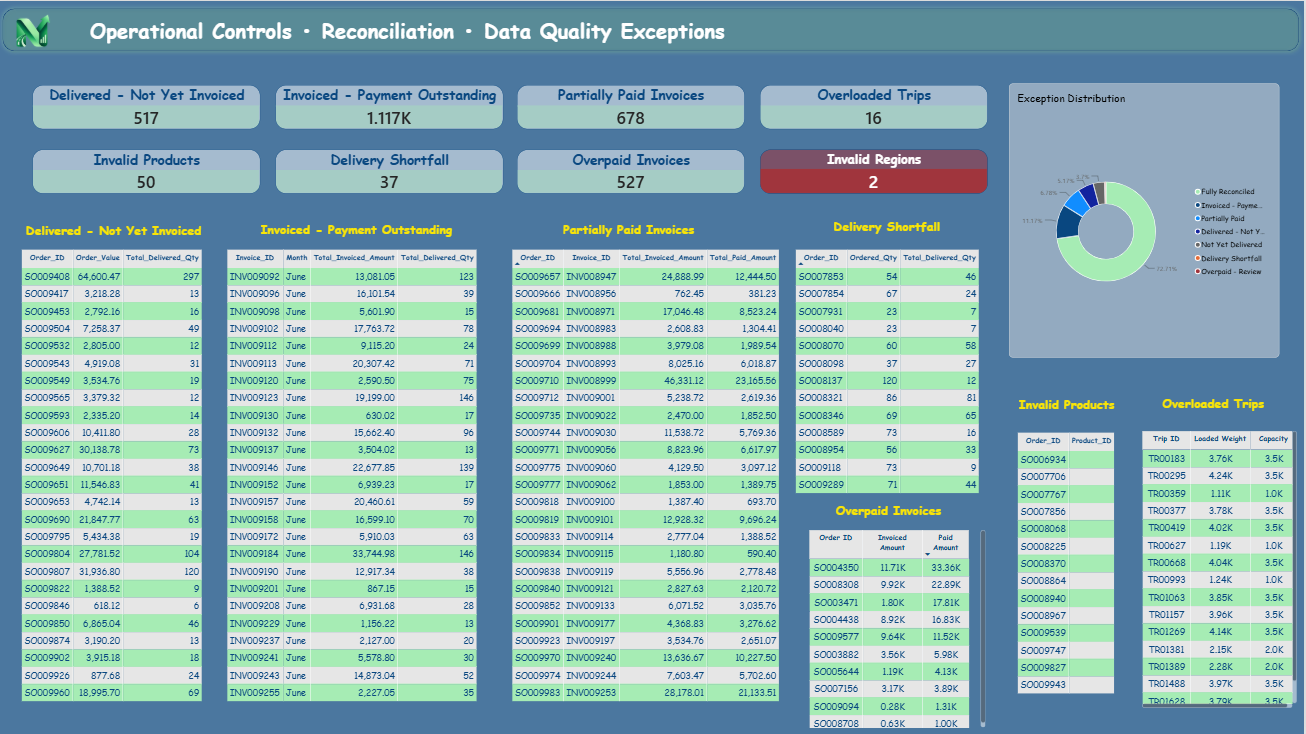

What the dashboard file says about the page in this screenshot:
{"tool":"powerbi","page":{"name":"Exceptions Page","canvas":[2560,1440],"ordinal":1},"visuals":[{"type":"tableEx","fields":{"Values":["V_Order_Reconciliation.Order_ID","Sum(V_Order_Reconciliation.Total_Invoiced_Amount)","Sum(V_Order_Reconciliation.Total_Paid_Amount)"]},"box":[1573.3,1023.3,363.3,416.7],"z":0},{"type":"tableEx","fields":{"Values":["Fact_Trips (2).Trip_ID","Fact_Trips (2).Loaded_Weight_KG","Fact_Trips (2).Capacity_KG"]},"box":[2227.5,828.6,320,572.5],"z":1000},{"type":"shape","box":[0,7.1,2560,101.4],"z":2000},{"type":"image","box":[23.8,16.2,86.9,83.8],"z":3000},{"type":"shape","box":[2252.5,762.2,260,53.3],"z":4000},{"type":"shape","box":[1613.3,970,263.3,53.3],"z":5000},{"type":"shape","box":[140,16.7,1323.3,76.7],"z":6000},{"type":"tableEx","fields":{"Values":["V_Order_Reconciliation.Order_ID","Fact_Invoices (2).Invoice_ID","V_Order_Reconciliation.Total_Invoiced_Amount","V_Order_Reconciliation.Total_Paid_Amount"]},"box":[990,473.3,560,920],"z":7000},{"type":"shape","box":[1098.5,421.8,280,52.9],"z":8000},{"type":"tableEx","fields":{"Values":["Fact_Invoices (2).Invoice_ID","Fact_Invoices (2).Invoice_Date_Clean.Variation.Date Hierarchy.Month","V_Order_Reconciliation.Total_Invoiced_Amount","V_Order_Reconciliation.Total_Delivered_Qty"]},"box":[433.3,473.3,540,920],"z":9000},{"type":"shape","box":[487.8,421.4,430,53.3],"z":10000},{"type":"shape","box":[23.3,420.5,406.7,56.7],"z":11000},{"type":"tableEx","fields":{"Values":["V_Order_Reconciliation.Order_ID","V_Order_Reconciliation.Order_Value","V_Order_Reconciliation.Total_Delivered_Qty"]},"box":[30,473.3,380,920],"z":12000},{"type":"tableEx","fields":{"Values":["V_Order_Reconciliation.Order_ID","V_Order_Reconciliation.Ordered_Qty","V_Order_Reconciliation.Total_Delivered_Qty"]},"box":[1546.7,473.3,390,526.7],"z":13000},{"type":"shape","box":[1603.5,415.1,280,52.9],"z":14000},{"type":"tableEx","fields":{"Values":["Fact_orders (2).Order_ID","Fact_orders (2).Product_ID"]},"box":[1983.3,833.3,223.3,560],"z":15000},{"type":"shape","box":[1956.7,763.3,280,52.5],"z":16000},{"type":"donutChart","title":"Exception Distribution","fields":{"Category":["V_Order_Reconciliation.Reconciliation_Status"],"Y":["CountNonNull(V_Order_Reconciliation.Order_ID)"]},"box":[1982.5,162.5,530,537.5],"z":17000},{"type":"cardVisual","title":"Invoiced - Payment Outstanding","fields":{"Data":["CountNonNull(V_Order_Reconciliation.Order_ID)"]},"box":[543.3,163.3,446.7,86.7],"z":18000},{"type":"cardVisual","title":"Invalid Regions","fields":{"Data":["CountNonNull(Fact_orders (2).Order_ID)"]},"box":[1493.3,290,446.7,86.7],"z":19000},{"type":"cardVisual","title":"Delivered - Not Yet Invoiced","fields":{"Data":["CountNonNull(V_Order_Reconciliation.Order_ID)"]},"box":[66.7,163.3,446.7,86.7],"z":20000},{"type":"cardVisual","title":"Invalid Products","fields":{"Data":["CountNonNull(Fact_orders (2).Order_ID)"]},"box":[66.7,290,446.7,86.7],"z":21000},{"type":"cardVisual","title":"Overloaded Trips ","fields":{"Data":["CountNonNull(Fact_Trips (2).Trip_ID)"]},"box":[1493.3,163.3,446.7,86.7],"z":22000},{"type":"cardVisual","title":"Delivery Shortfall","fields":{"Data":["CountNonNull(V_Order_Reconciliation.Order_ID)"]},"box":[543.3,290,446.7,86.7],"z":23000},{"type":"cardVisual","title":"Overpaid Invoices","fields":{"Data":["CountNonNull(V_Order_Reconciliation.Order_ID)"]},"box":[1016.7,290,446.7,86.7],"z":24000},{"type":"cardVisual","title":"Partially Paid Invoices","fields":{"Data":["CountNonNull(V_Order_Reconciliation.Order_ID)"]},"box":[1016.7,163.3,446.7,86.7],"z":25000}]}

Visuals, with their boxes in screenshot pixels (x1, y1, x2, y2), scaled from the page's 2560x1440 canvas onto the 1306x734 screenshot:
tableEx - V_Order_Reconciliation.Order_ID x Sum(V_Order_Reconciliation.Total_Invoiced_Amount): crop(803, 522, 988, 733)
tableEx - Fact_Trips (2).Trip_ID x Fact_Trips (2).Loaded_Weight_KG: crop(1136, 422, 1300, 714)
shape: crop(0, 4, 1305, 55)
image: crop(12, 8, 56, 51)
shape: crop(1149, 389, 1282, 416)
shape: crop(823, 494, 957, 522)
shape: crop(71, 9, 747, 48)
tableEx - V_Order_Reconciliation.Order_ID x Fact_Invoices (2).Invoice_ID: crop(505, 241, 791, 710)
shape: crop(560, 215, 703, 242)
tableEx - Fact_Invoices (2).Invoice_ID x Fact_Invoices (2).Invoice_Date_Clean.Variation.Date Hierarchy.Month: crop(221, 241, 497, 710)
shape: crop(249, 215, 468, 242)
shape: crop(12, 214, 219, 243)
tableEx - V_Order_Reconciliation.Order_ID x V_Order_Reconciliation.Order_Value: crop(15, 241, 209, 710)
tableEx - V_Order_Reconciliation.Order_ID x V_Order_Reconciliation.Ordered_Qty: crop(789, 241, 988, 510)
shape: crop(818, 212, 961, 239)
tableEx - Fact_orders (2).Order_ID x Fact_orders (2).Product_ID: crop(1012, 425, 1126, 710)
shape: crop(998, 389, 1141, 416)
"Exception Distribution" donutChart: crop(1011, 83, 1282, 357)
"Invoiced - Payment Outstanding" cardVisual: crop(277, 83, 505, 127)
"Invalid Regions" cardVisual: crop(762, 148, 990, 192)
"Delivered - Not Yet Invoiced" cardVisual: crop(34, 83, 262, 127)
"Invalid Products" cardVisual: crop(34, 148, 262, 192)
"Overloaded Trips " cardVisual: crop(762, 83, 990, 127)
"Delivery Shortfall" cardVisual: crop(277, 148, 505, 192)
"Overpaid Invoices" cardVisual: crop(519, 148, 747, 192)
"Partially Paid Invoices" cardVisual: crop(519, 83, 747, 127)
